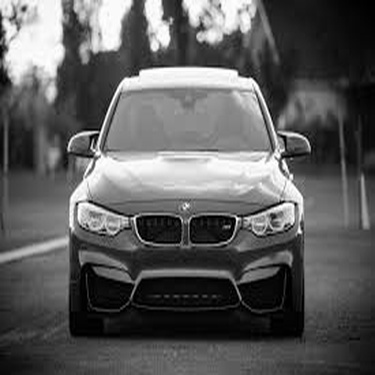car: (34, 51, 325, 346)
